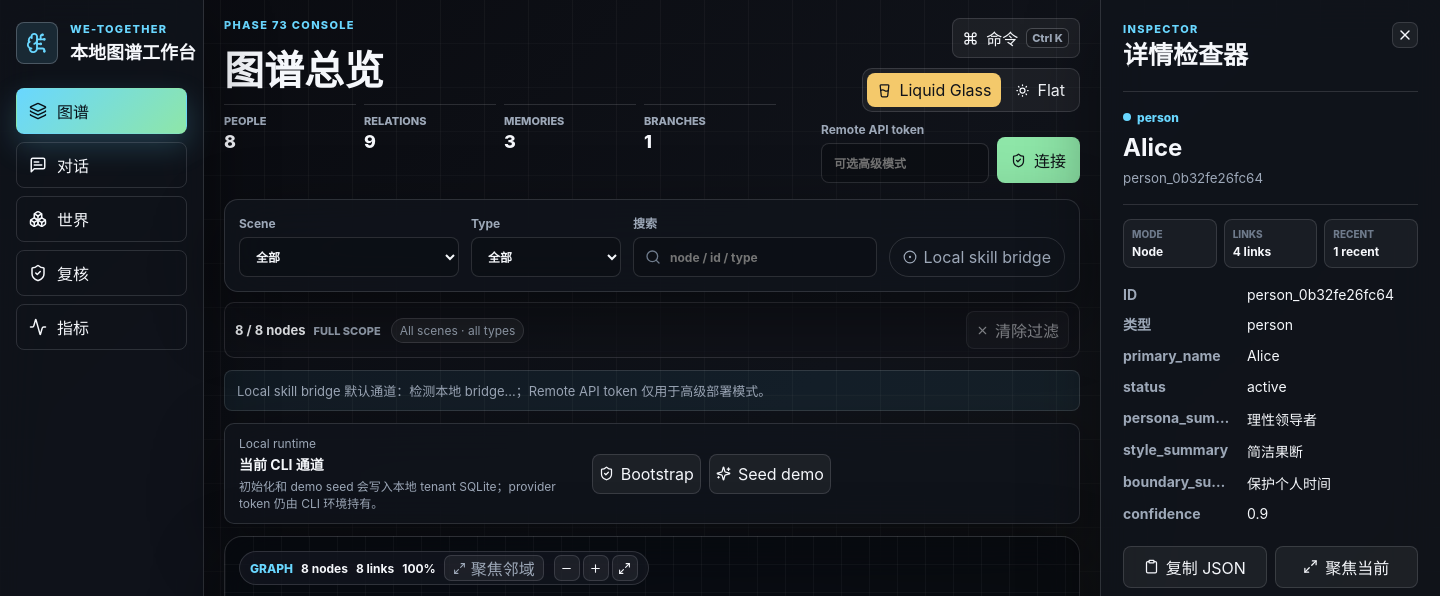
Test: WeTogether WebUI › opens a command palette and selects graph nodes from it
The image size is (1440, 596).
Type keys "{Control>}k{/Control}"
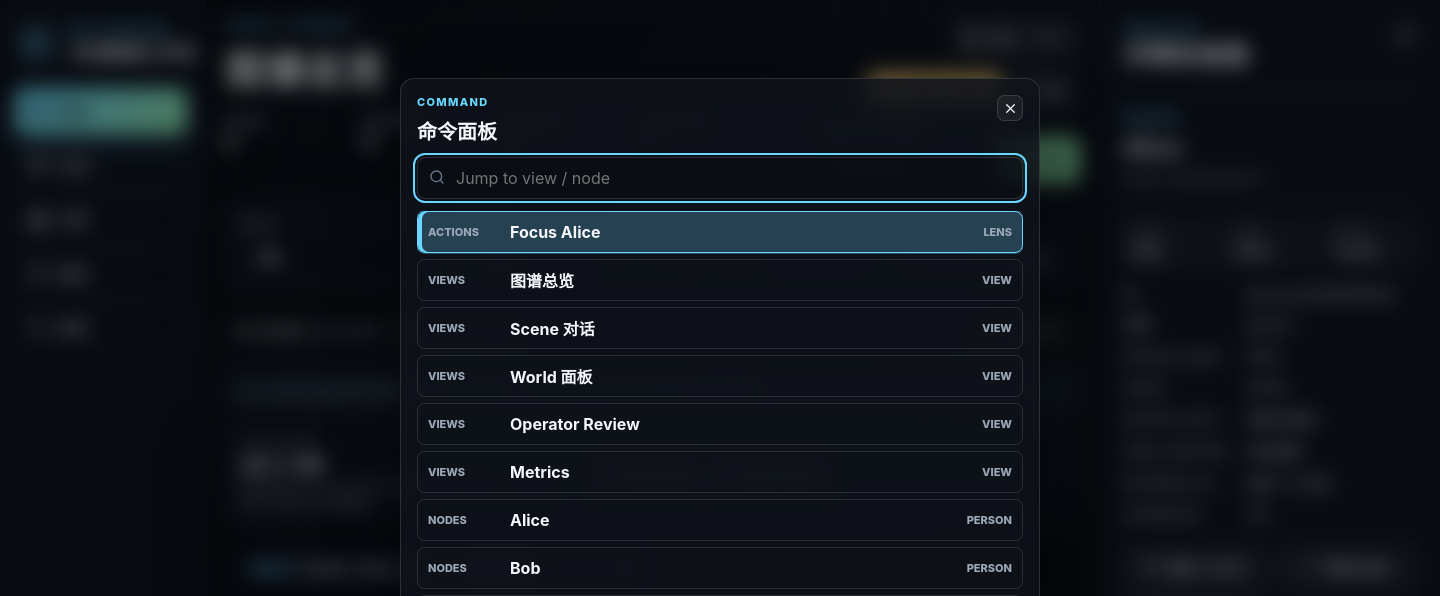
In the field named "命令搜索": (720, 178) [417,157,1023,199], type "Carol"
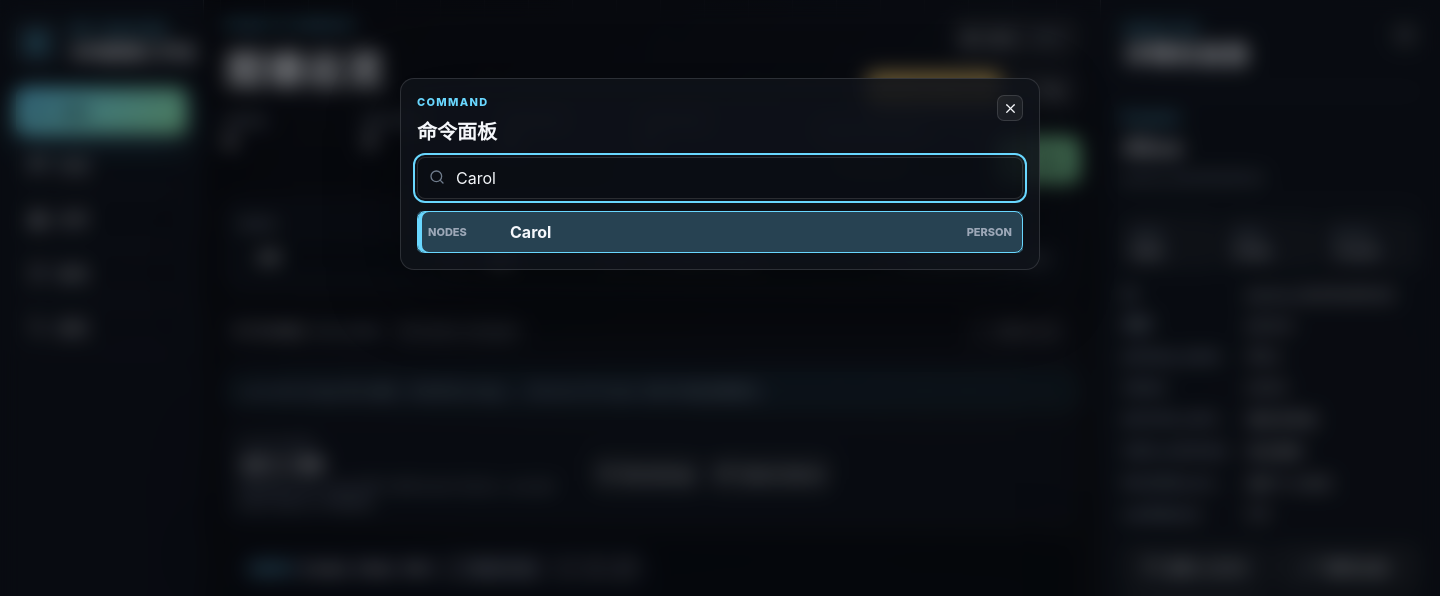
Click the button "Nodes Carol person": (447, 232) [417,211,1023,253]
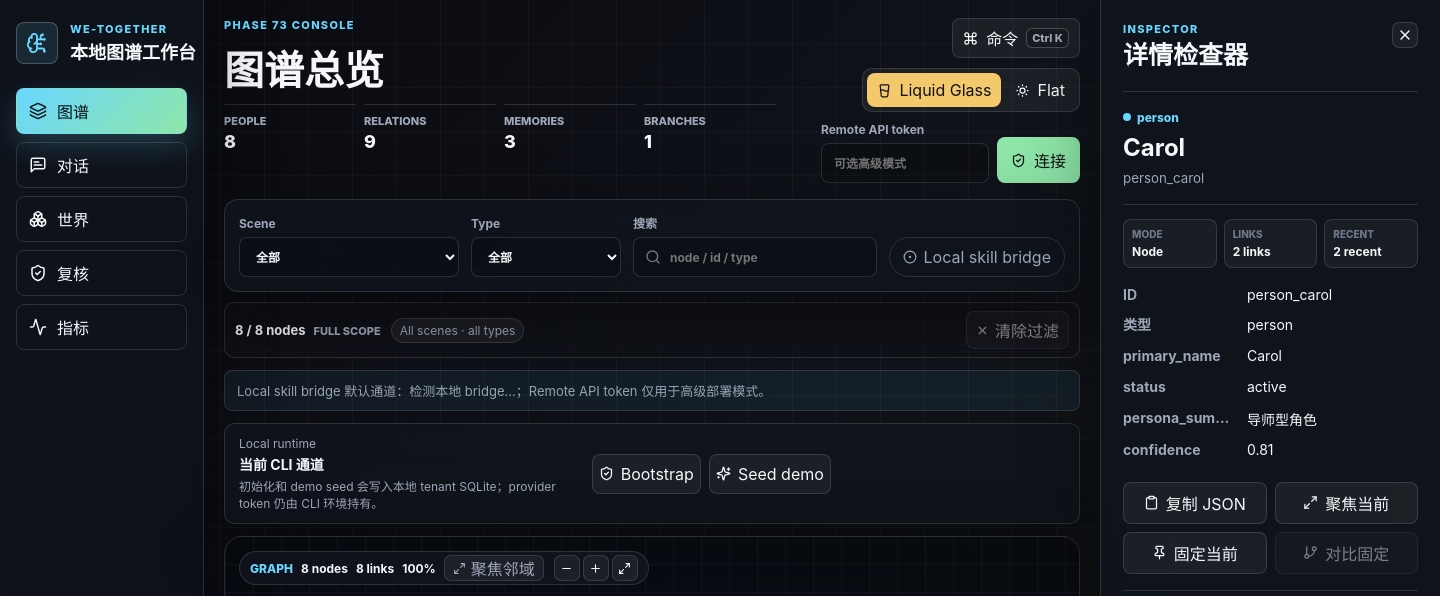
Expected: the heading "命令面板" is gone
Expected: the 1st text "person_carol" is shown, [1123,170,1204,186]
